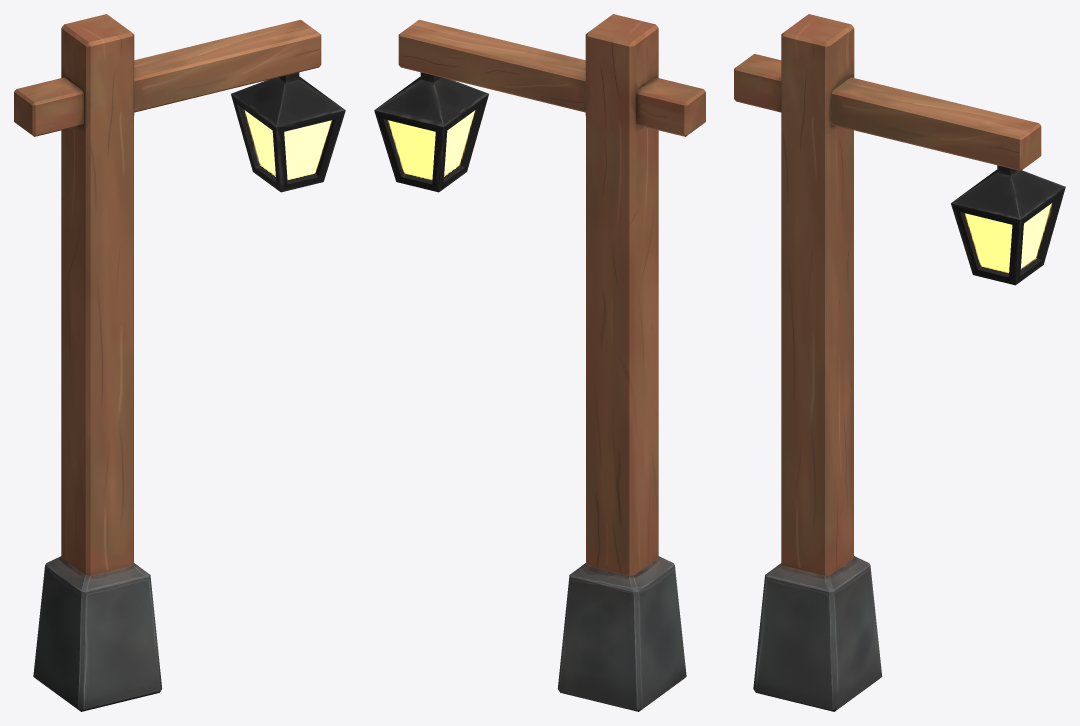
File: lamp.gltf
3 renders of one model, left to right at view 1: azimuth 30°, elevation 25°; view 2: azimuth 150°, elevation 25°; view 3: azimuth 330°, elevation 25°, orthographic.
Parts seen in each view (by area): view 1: Lantern Low Poly; view 2: Lantern Low Poly; view 3: Lantern Low Poly.
Boxes of the visible parts, left/top/right/bottom form: Lantern Low Poly: left=14, top=14, right=345, bottom=711; Lantern Low Poly: left=374, top=14, right=705, bottom=711; Lantern Low Poly: left=734, top=14, right=1065, bottom=711.
Bounding box in the file's own units: 1.07 × 2.23 × 0.2986.
1 material, 1 textured.
